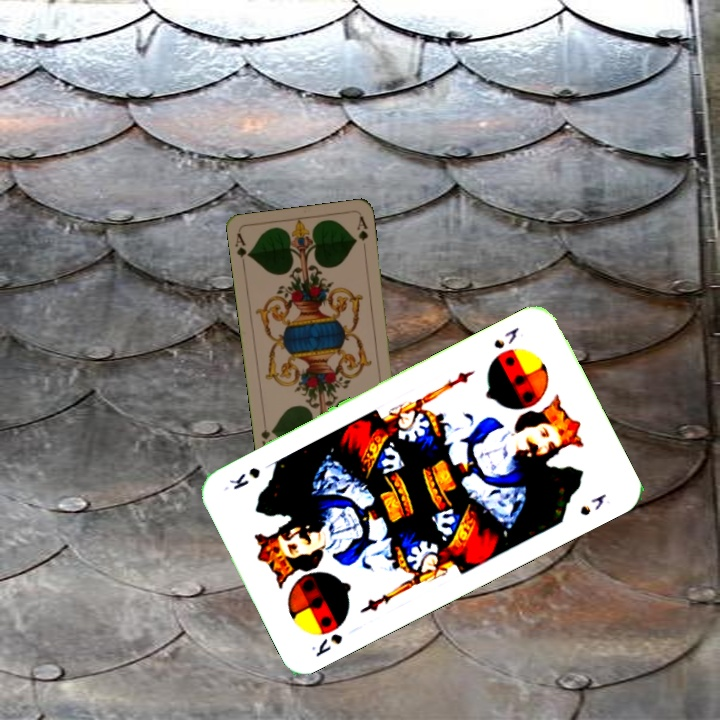GA: (231, 229, 253, 270)
SK: (307, 629, 345, 660), (489, 323, 522, 352)
